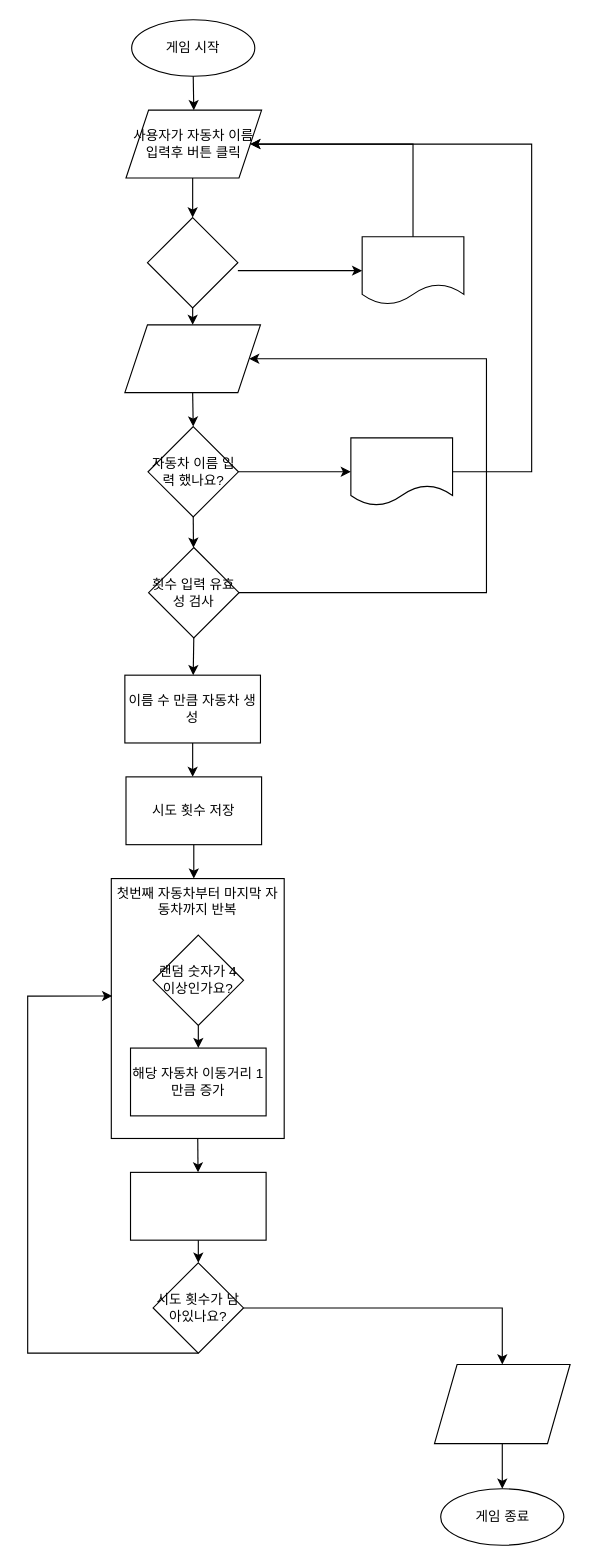
Some shapes in this 590 by 1565 pixel diagram are drawn without their labels. Each missing label, with the centre of its shape:
"alert을 이용해 자동차 입력하라고 알림" goes at (x=401, y=471).
"alert을 이용해 잘못된 입력 알림" goes at (x=412, y=270).
"게임 결과와 우승자 출력" goes at (x=501, y=1403).
"사용자가 시도 횟수 입력후 버튼 클릭" goes at (x=192, y=358).
"시도 가능 횟수 1만큼 감소" goes at (x=197, y=1205).
"자동차 입력 유효성 검사" goes at (x=192, y=262).
